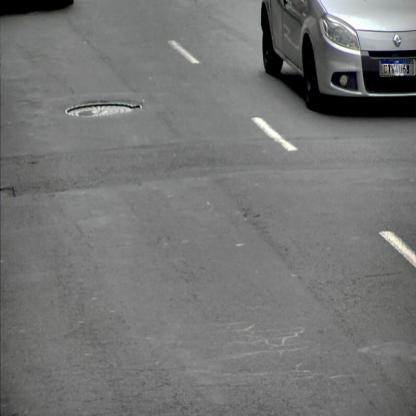PlacaM: (380, 59, 414, 76)
